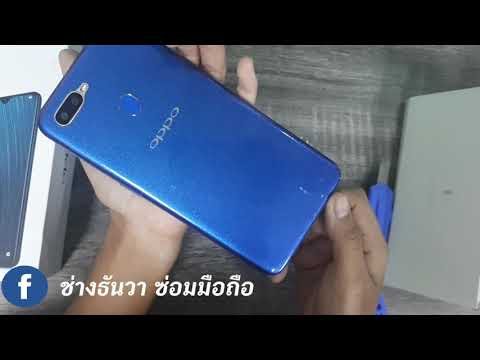Phone: (37, 44, 342, 275)
